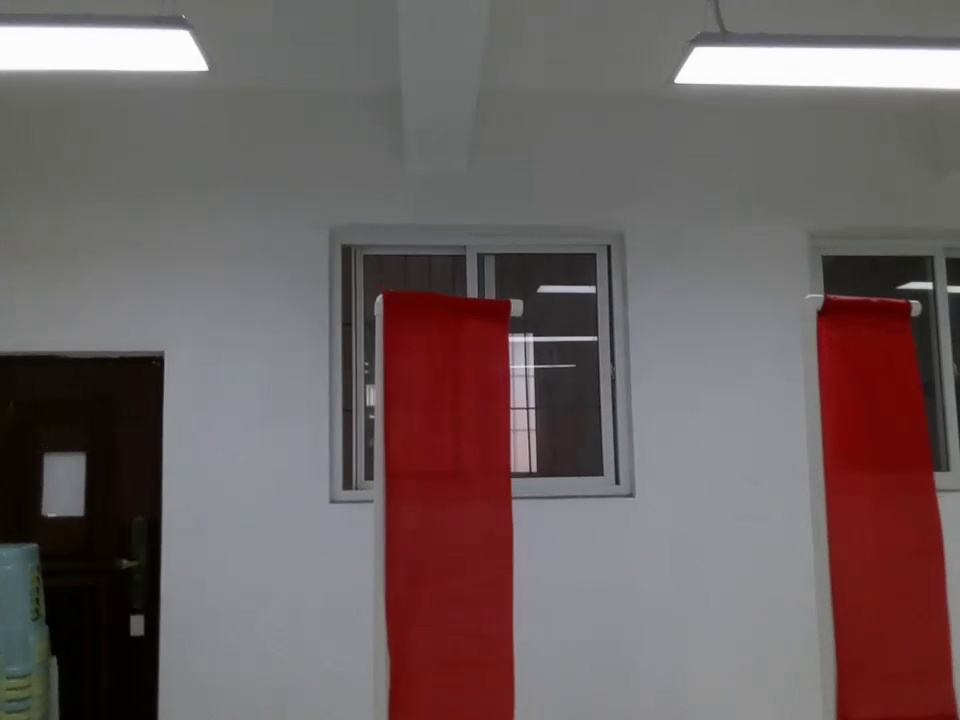qi: (364, 285, 546, 720), (787, 282, 960, 720)
